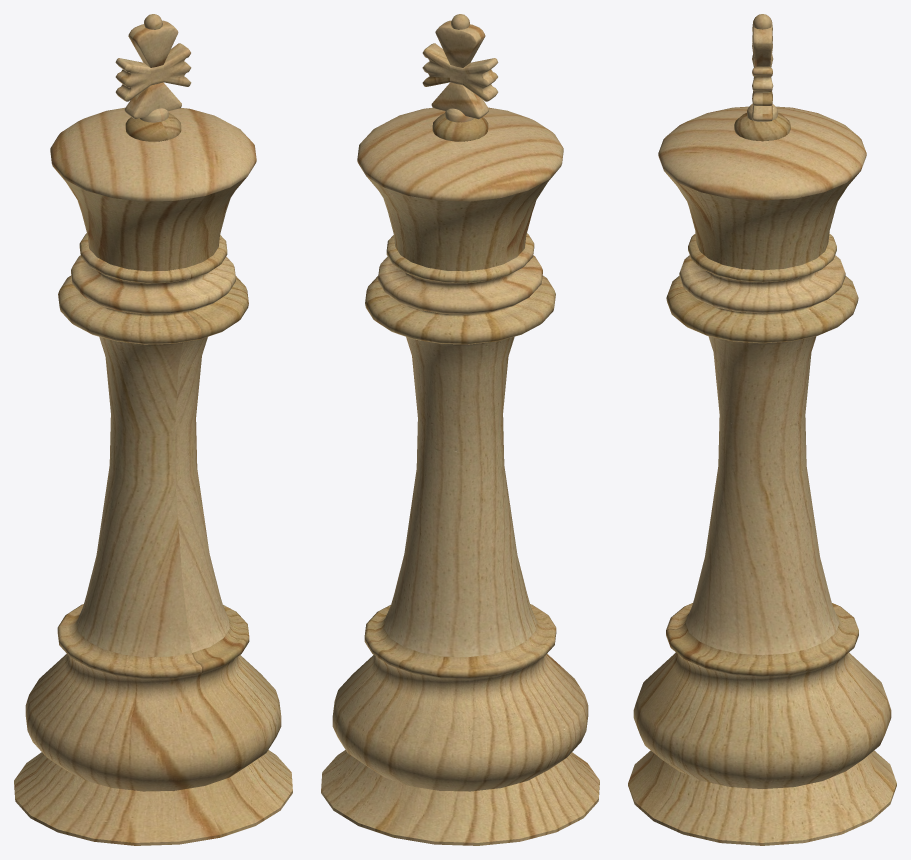
The model's file is White_King.dae.
The picture shows the model from 3 angles, left to right: view 1: azimuth 30°, elevation 25°; view 2: azimuth 150°, elevation 25°; view 3: azimuth 270°, elevation 25°; orthographic projection.
Parts seen in each view (by area): view 1: King; view 2: King; view 3: King.
Part boxes in pixels (left/top/right/bottom): King: left=14, top=14, right=292, bottom=845; King: left=321, top=14, right=599, bottom=845; King: left=628, top=14, right=896, bottom=845.
Size of the model in its own units: 2.02 by 6.08 by 1.92.
Materials: 1 (1 with a texture image).
